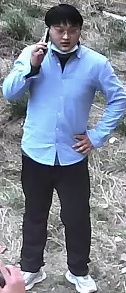phone: (5, 10, 82, 100)
